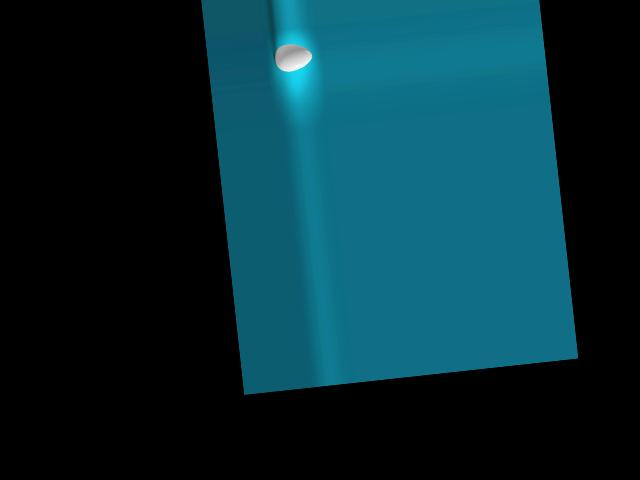egg: (272, 41, 313, 72)
